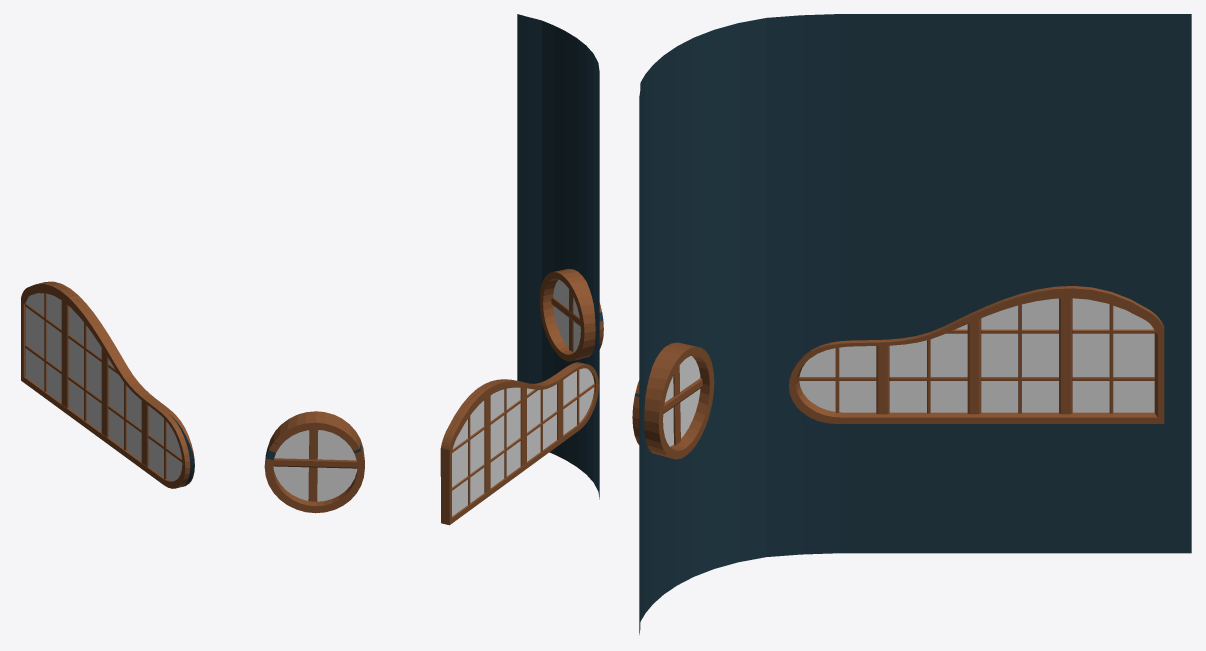
File: KitchenWall_round.fbx
3 renders of one model, left to right at view 1: azimuth 30°, elevation 25°; view 2: azimuth 150°, elevation 25°; view 3: azimuth 270°, elevation 25°, orthographic. The views are drawn at different scales.
Parts seen in each view (by area): view 1: KitchenWindowWoven, KitchenWallRound, KitchenWindowGlass, KitchenWindowFrame; view 2: KitchenWallRound, KitchenWindowWoven, KitchenWindowGlass, KitchenWindowFrame; view 3: KitchenWallRound, KitchenWindowWoven, KitchenWindowGlass, KitchenWindowFrame.
Part boxes in pixels (box(x1,y1,x2,y2)): KitchenWindowWoven: box(25, 293, 182, 486); KitchenWallRound: box(21, 281, 364, 513); KitchenWindowGlass: box(273, 430, 357, 501); KitchenWindowFrame: box(273, 429, 357, 501); KitchenWallRound: box(440, 14, 603, 525); KitchenWindowWoven: box(452, 368, 595, 516); KitchenWindowGlass: box(553, 279, 580, 351); KitchenWindowFrame: box(551, 289, 580, 351); KitchenWallRound: box(632, 14, 1191, 634); KitchenWindowWoven: box(799, 298, 1155, 414); KitchenWindowGlass: box(663, 356, 700, 446); KitchenWindowFrame: box(663, 366, 702, 445).
Size of the model in its own units: 282 by 821 by 771.
